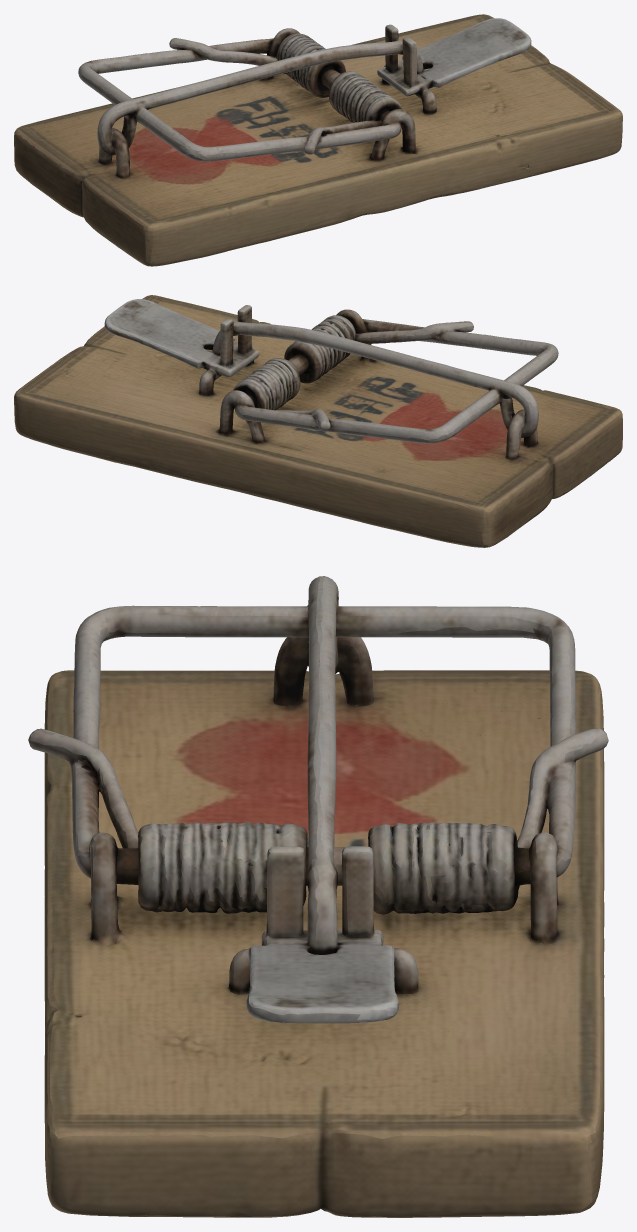
File: parts.glb
3 views of the same model, one above another, from view 1: azimuth 30°, elevation 25°; view 2: azimuth 150°, elevation 25°; view 3: azimuth 270°, elevation 25° (orthographic). The views are drawn at different scales.
Size of the model in its own units: 0.102 by 0.0235 by 0.0535.
6 materials, 6 textured.
